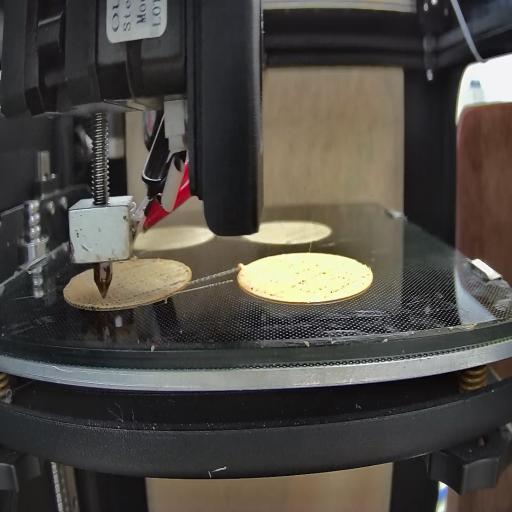under_extrusion: (289, 265, 368, 296), (130, 273, 192, 296), (76, 290, 123, 314), (245, 273, 278, 302)
